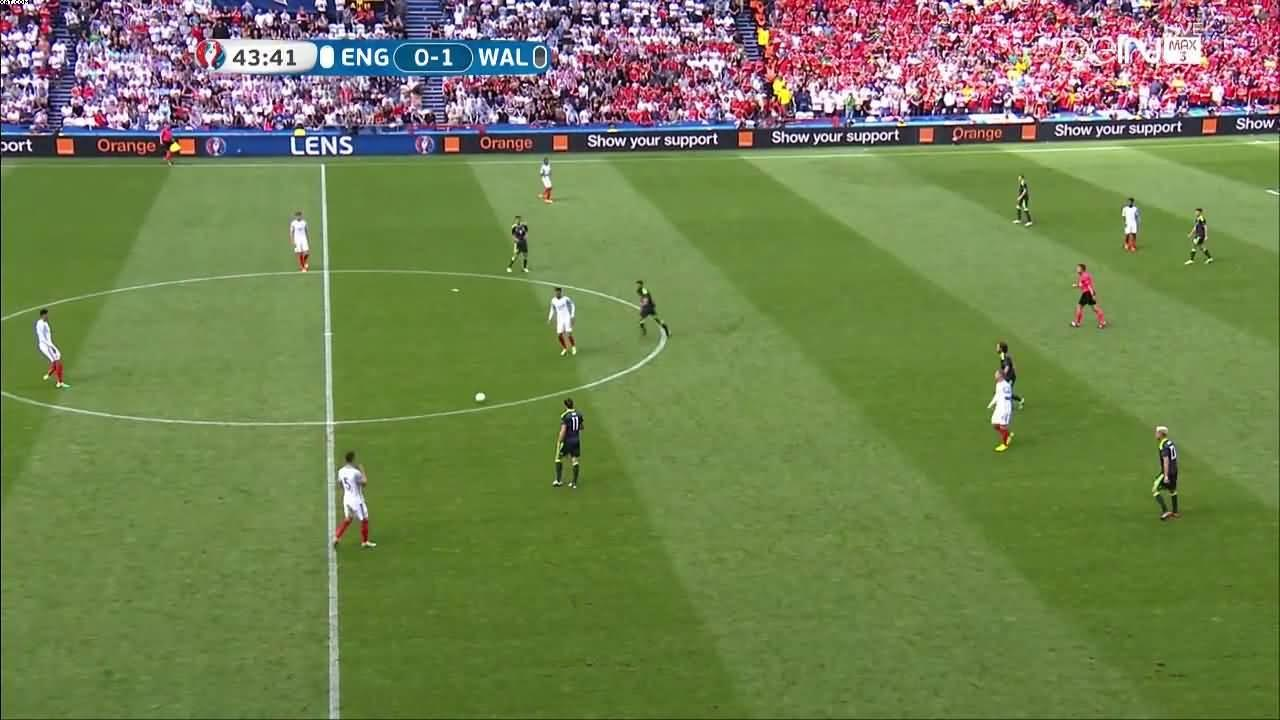ball: (476, 392, 486, 403)
player: (332, 450, 377, 549), (551, 399, 584, 490), (1150, 426, 1181, 521), (36, 307, 71, 390), (987, 369, 1016, 452), (632, 280, 671, 338), (545, 288, 577, 356), (995, 341, 1026, 409), (1183, 209, 1213, 266), (507, 215, 531, 274), (290, 212, 313, 272), (1013, 174, 1035, 228), (1121, 196, 1139, 252), (538, 156, 555, 203)
referee: (1070, 264, 1108, 330), (160, 120, 181, 168)
